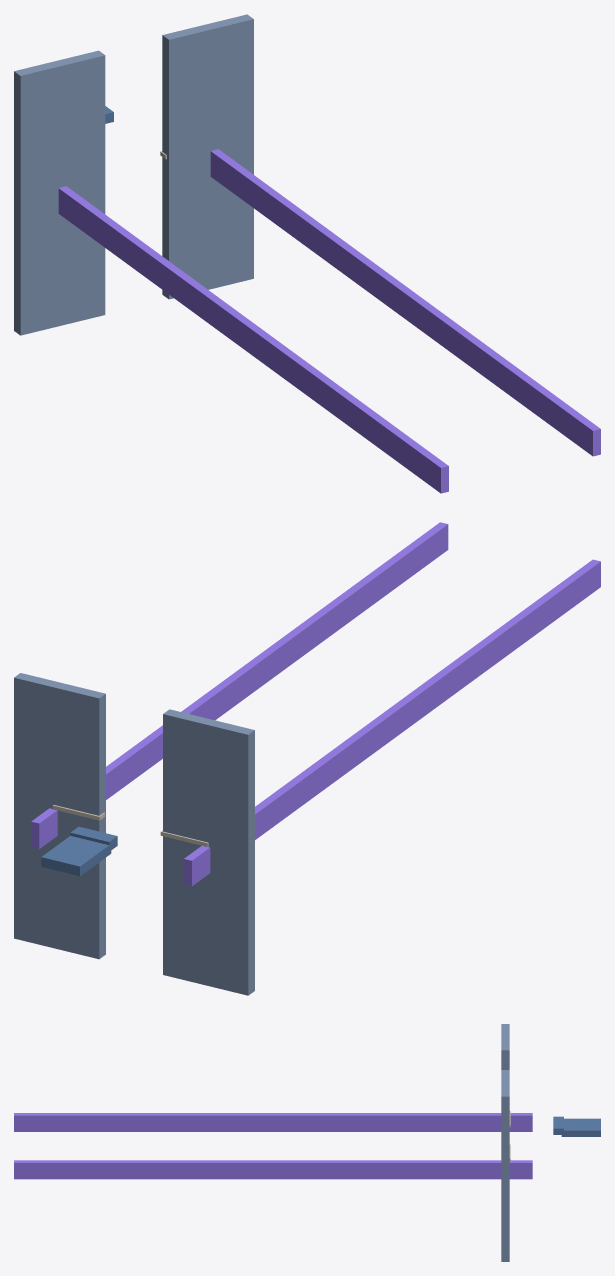
The model's file is LEVEL_2.fbx.
3 renders of one model, top to bottom at view 1: azimuth 30°, elevation 25°; view 2: azimuth 150°, elevation 25°; view 3: azimuth 270°, elevation 25°, orthographic. The views are drawn at different scales.
Parts seen in each view (by area): view 1: plane_2__3_, plane_2__2_, plane_1__1_, plane_1__2_; view 2: plane_2__3_, plane_2__2_, plane_1__2_, plane_1__1_, plane_2__1_; view 3: plane_1__1_, plane_1__2_, plane_2__2_, plane_2__1_, plane_2__3_.
Part boxes in pixels (bbox=[...]): plane_2__3_: bbox=[14, 50, 105, 335]; plane_2__2_: bbox=[162, 14, 253, 299]; plane_1__1_: bbox=[210, 149, 600, 456]; plane_1__2_: bbox=[58, 186, 448, 493]; plane_2__3_: bbox=[163, 709, 254, 995]; plane_2__2_: bbox=[14, 673, 105, 959]; plane_1__2_: bbox=[184, 559, 600, 886]; plane_1__1_: bbox=[31, 522, 448, 848]; plane_2__1_: bbox=[41, 836, 111, 876]; plane_1__1_: bbox=[14, 1160, 532, 1179]; plane_1__2_: bbox=[14, 1113, 532, 1131]; plane_2__2_: bbox=[501, 1070, 509, 1261]; plane_2__1_: bbox=[561, 1118, 600, 1136]; plane_2__3_: bbox=[501, 1024, 509, 1069].
Size of the model in its own units: 955 by 1015 by 3265.
